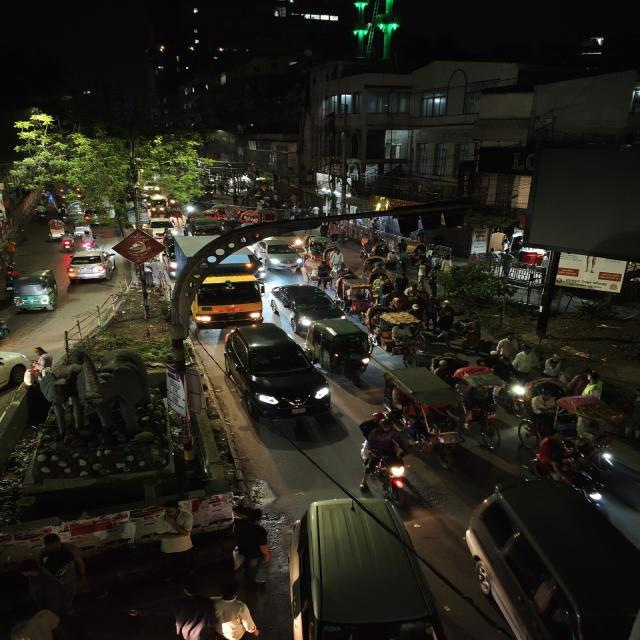car: (466, 480, 638, 640), (280, 496, 443, 640), (219, 322, 334, 422), (270, 283, 346, 331), (63, 248, 116, 285), (256, 236, 307, 274)
cng: (311, 319, 375, 373), (8, 268, 61, 316)
motorcycle: (357, 417, 411, 501), (0, 263, 18, 293), (78, 230, 98, 251), (59, 232, 76, 253), (0, 316, 11, 344)
pedestrian: (162, 581, 268, 640), (227, 506, 274, 582), (29, 533, 89, 584), (1, 603, 77, 640), (510, 345, 542, 377), (495, 330, 523, 361), (434, 307, 459, 340), (459, 326, 485, 354), (1, 238, 20, 262)
rickshaw: (523, 377, 623, 462), (382, 367, 464, 465), (370, 303, 428, 357), (304, 234, 328, 260), (44, 218, 66, 242)
truck: (183, 251, 266, 325)
